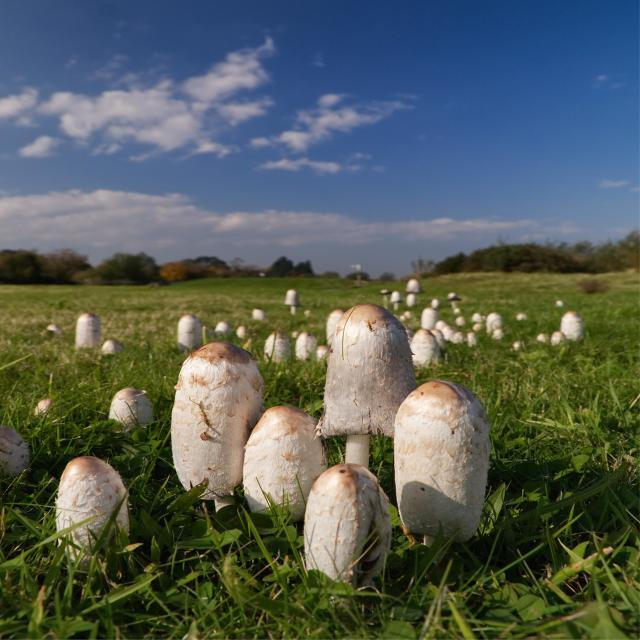Coprinus comatus: (396, 377, 488, 534), (321, 304, 406, 464), (172, 342, 255, 492), (298, 463, 391, 577), (247, 407, 326, 508), (62, 450, 127, 551), (403, 319, 440, 368), (104, 382, 148, 423)
